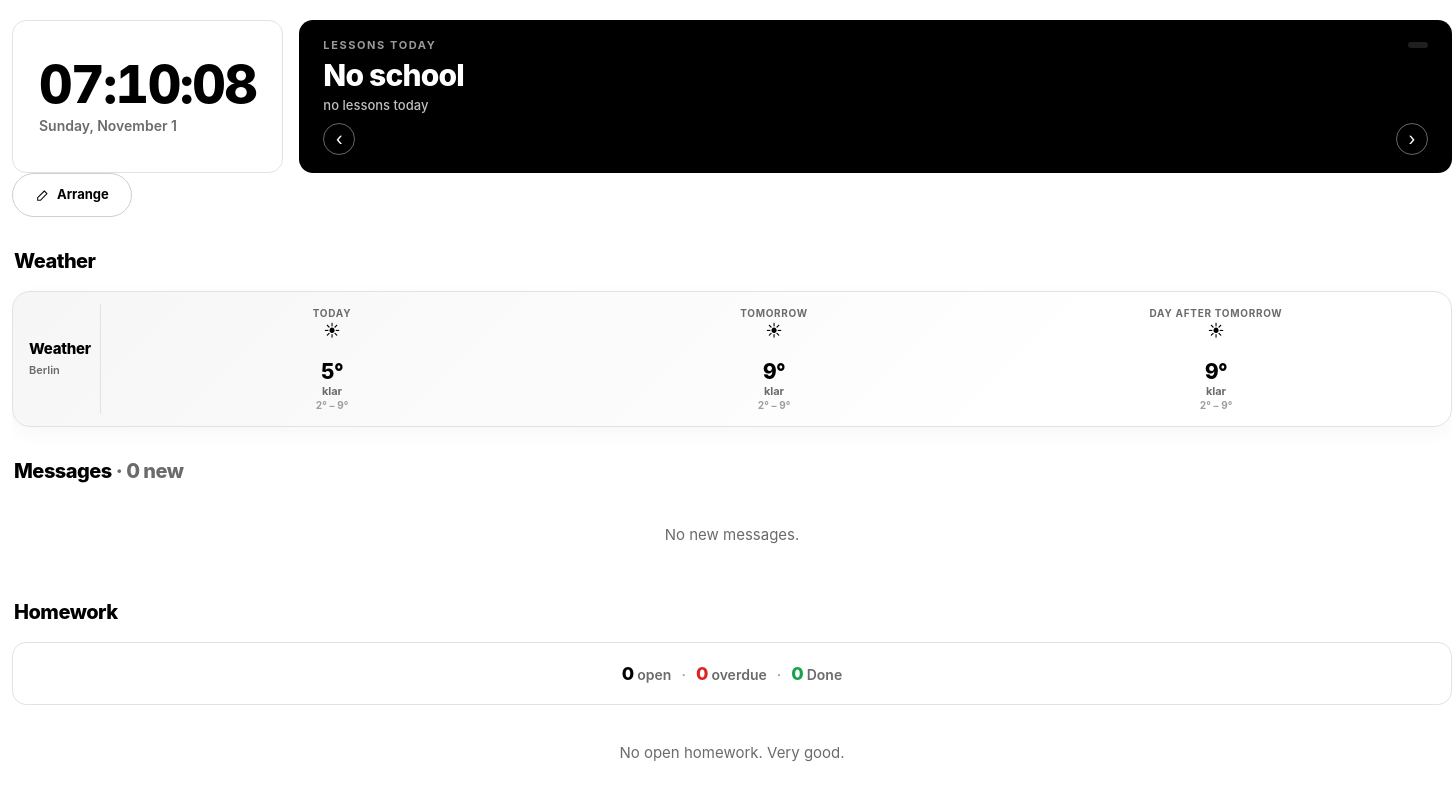
OverviewView – Layout-Editor › zeigt einen Fehler, wenn das Speichern scheitert
Expected: the text "Berlin" is shown, [29, 363, 60, 377]
Click the button "Arrange": (72, 194) [12, 172, 132, 216]
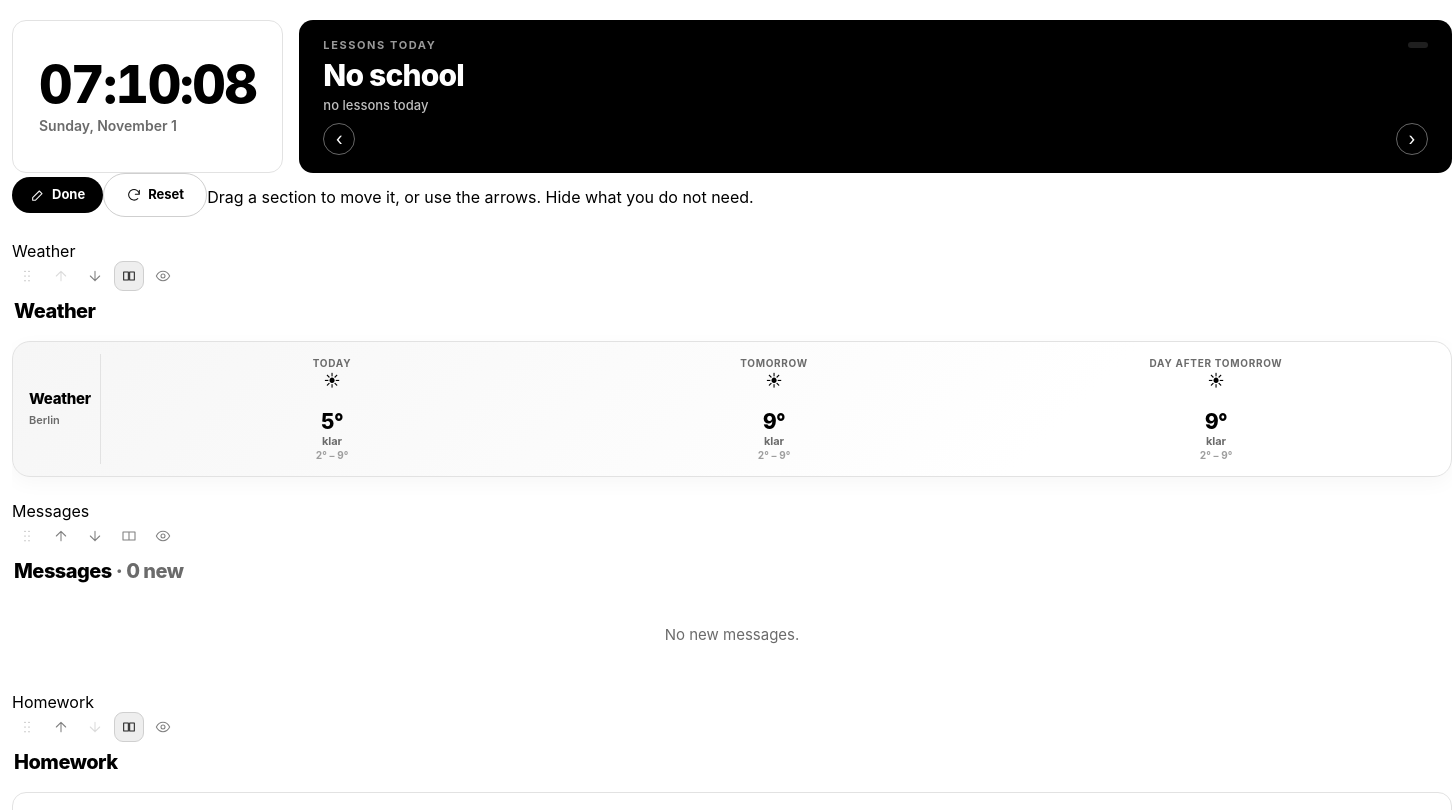
Click the button named "Hide section: Weather": (163, 276) [148, 260, 178, 290]
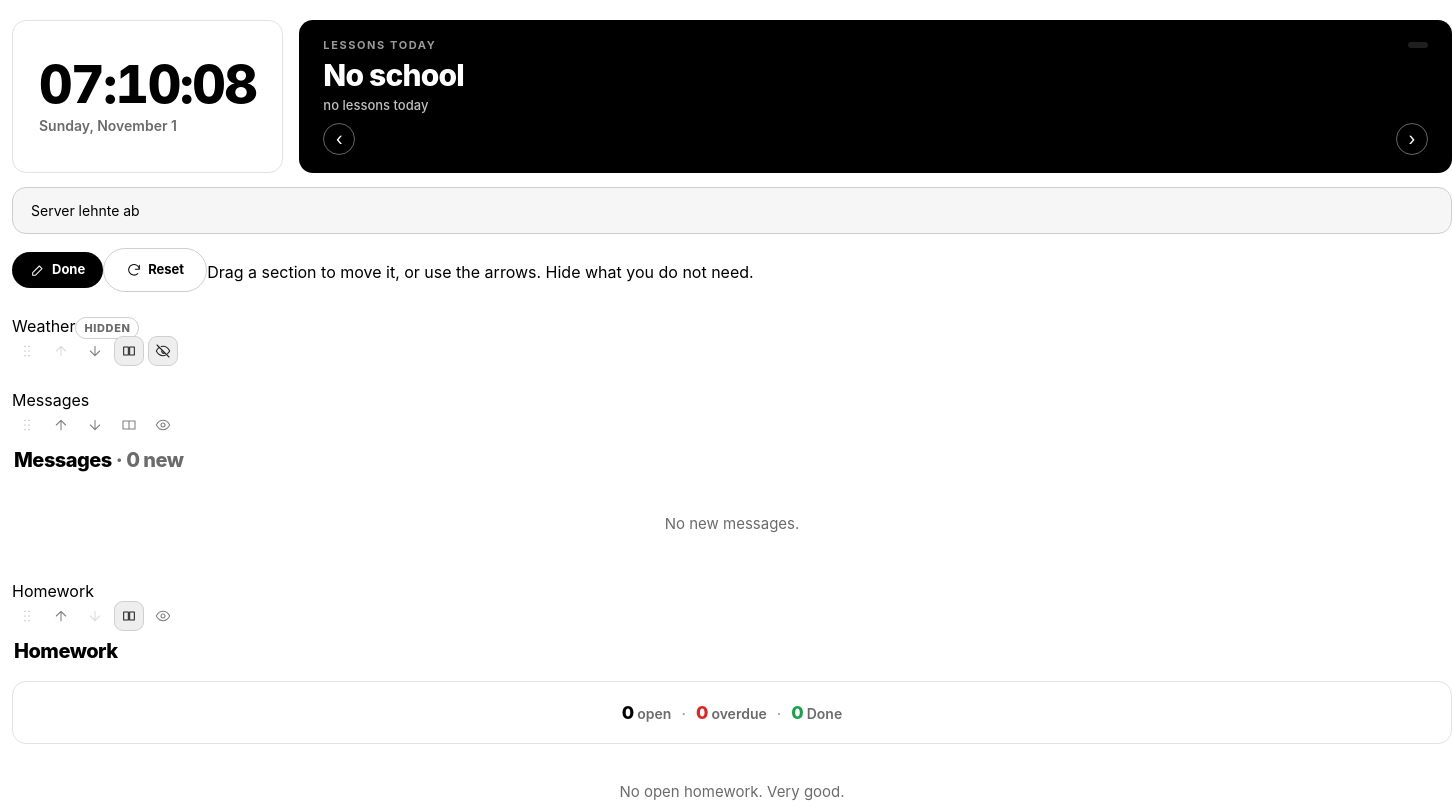
Expected: the message reads "Server lehnte ab", [31, 202, 140, 218]
